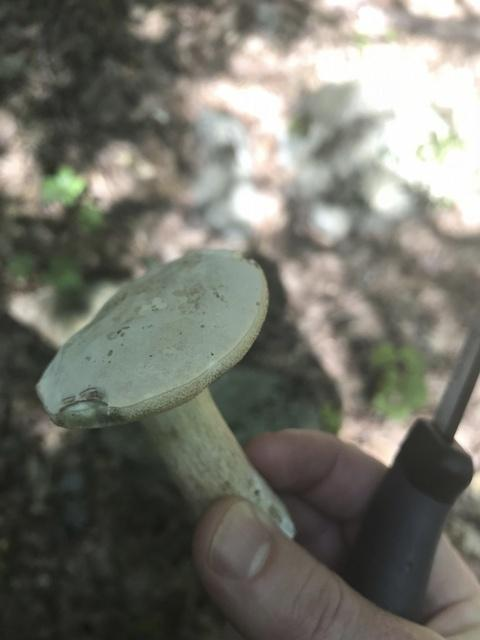edible_mushroom: (34, 245, 298, 540)
